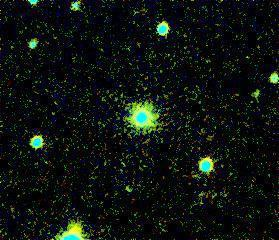star: (115, 174, 145, 204)
